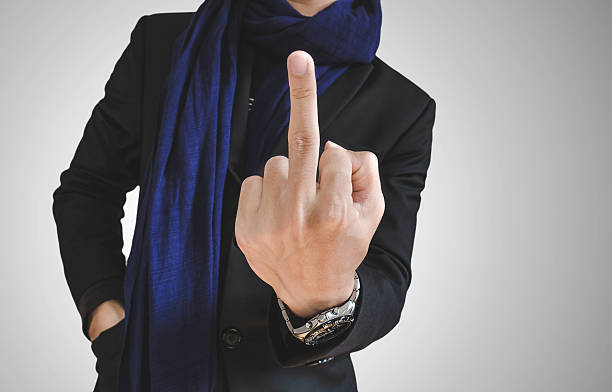insulting_gesture: (234, 50, 384, 285)
